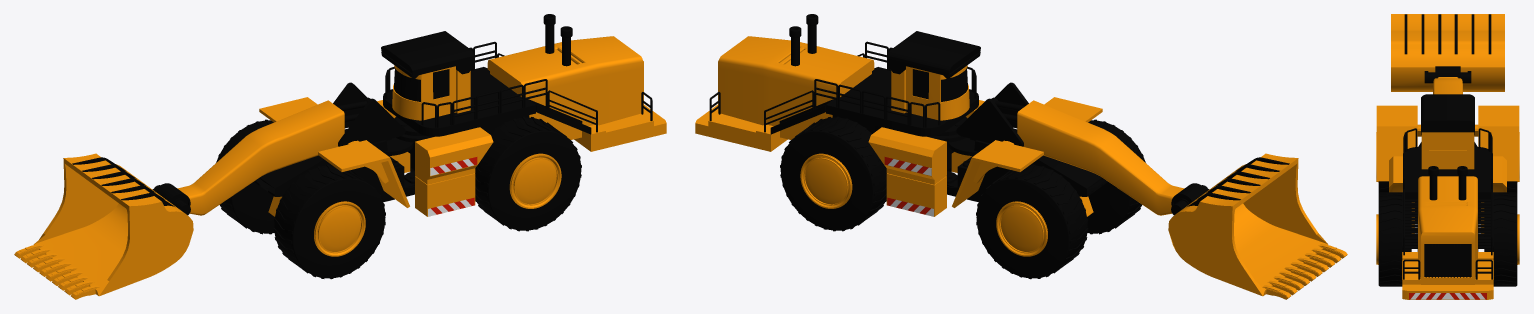
Rendered from center-articulated.glb.
3 renders of one model, left to right at view 1: azimuth 30°, elevation 25°; view 2: azimuth 150°, elevation 25°; view 3: azimuth 270°, elevation 25°, orthographic. The views are drawn at different scales.
Parts seen in each view (by area): view 1: Vert.004, Cylinder.001, Cube, Cylinder, Cube.005, Cube.011, Cube.003, Cube.004, Plane, Vert, Vert.005, Vert.001 (+9 smaller); view 2: Vert.004, Cylinder.001, Cube, Cylinder, Cube.005, Cube.011, Cube.003, Cube.004, Plane, Vert, Vert.005, Vert.001 (+9 smaller); view 3: Vert.004, Cube, Cylinder, Plane, Vert, Cube.003, Cube.004, Cube.001, Cube.002, Vert.005, Cube.011, Cube.010 (+7 smaller).
Boxes of the visible parts, left/top/right/bottom form: Vert.004: left=33, top=153, right=193, bottom=296; Cylinder.001: left=216, top=119, right=385, bottom=279; Cube: left=487, top=36, right=643, bottom=139; Cylinder: left=475, top=116, right=581, bottom=231; Cube.005: left=177, top=100, right=344, bottom=215; Cube.011: left=377, top=100, right=493, bottom=216; Cube.003: left=383, top=67, right=535, bottom=171; Cube.004: left=392, top=65, right=470, bottom=120; Plane: left=259, top=97, right=409, bottom=207; Vert: left=381, top=31, right=474, bottom=78; Vert.005: left=385, top=41, right=652, bottom=132; Vert.001: left=333, top=82, right=405, bottom=146; Vert.004: left=1168, top=153, right=1328, bottom=296; Cylinder.001: left=976, top=119, right=1145, bottom=279; Cube: left=718, top=36, right=874, bottom=139; Cylinder: left=780, top=116, right=886, bottom=231; Cube.005: left=1017, top=100, right=1184, bottom=215; Cube.011: left=868, top=100, right=984, bottom=216; Cube.003: left=826, top=67, right=978, bottom=171; Cube.004: left=891, top=65, right=969, bottom=120; Plane: left=952, top=97, right=1102, bottom=207; Vert: left=887, top=31, right=980, bottom=78; Vert.005: left=709, top=41, right=976, bottom=132; Vert.001: left=956, top=82, right=1028, bottom=146; Vert.004: left=1391, top=14, right=1504, bottom=91; Cube: left=1418, top=176, right=1477, bottom=284; Cylinder: left=1376, top=192, right=1519, bottom=286; Plane: left=1376, top=105, right=1519, bottom=181; Vert: left=1421, top=94, right=1474, bottom=135; Cube.003: left=1403, top=147, right=1492, bottom=220; Cube.004: left=1421, top=132, right=1474, bottom=169; Cube.001: left=1402, top=252, right=1493, bottom=299; Cube.002: left=1403, top=199, right=1492, bottom=248; Vert.005: left=1403, top=128, right=1492, bottom=279; Cube.011: left=1389, top=156, right=1506, bottom=233; Cube.010: left=1404, top=14, right=1491, bottom=54.
Bounding box in the file's own units: 39.84 × 10.78 × 9.56.
